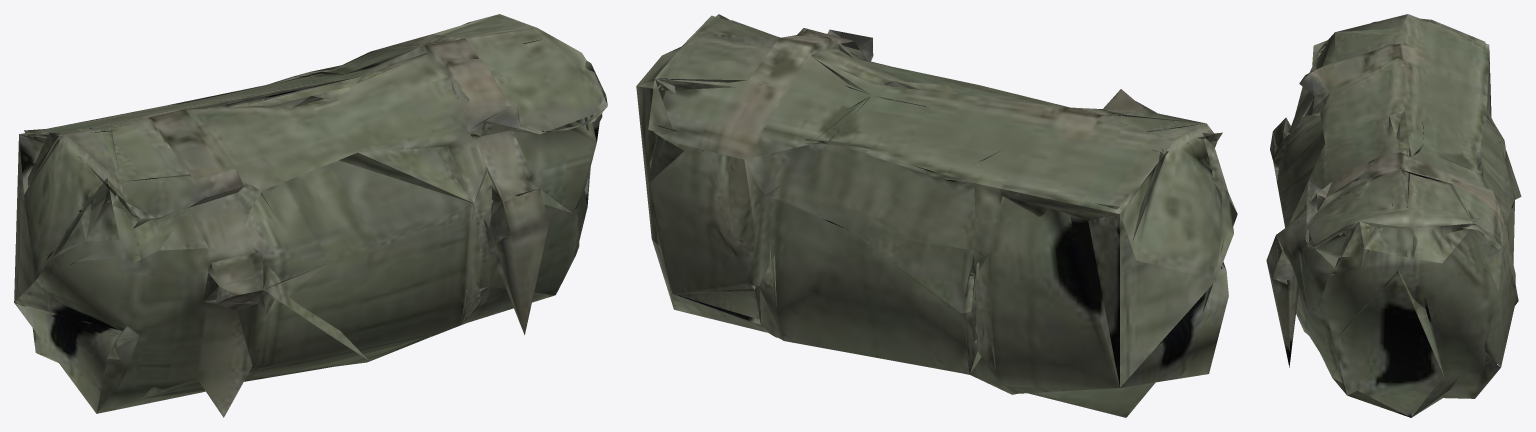
File: sandbags_823108390_lod0.glb
The picture shows the model from 3 angles, left to right: view 1: azimuth 30°, elevation 25°; view 2: azimuth 150°, elevation 25°; view 3: azimuth 270°, elevation 25°; orthographic projection. The views are drawn at different scales.
Bounding box in the file's own units: 2.59 × 1.23 × 1.27.
Materials: 1 (1 with a texture image).
